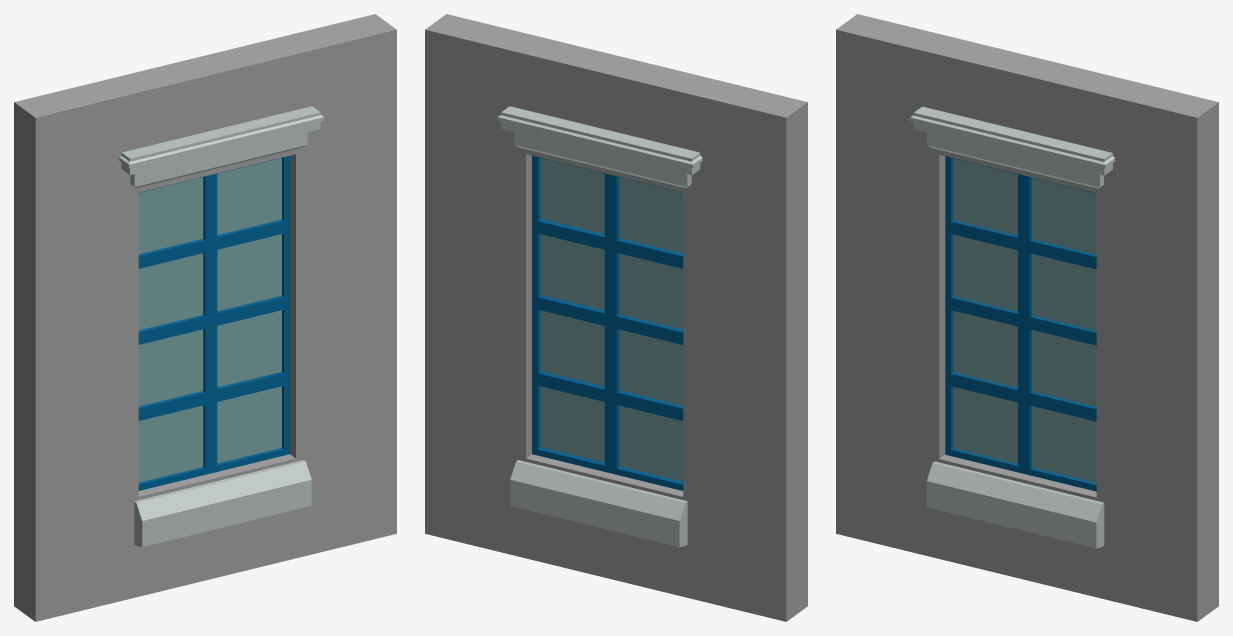
Rendered from NY_Street_Window_3M_02.fbx.
3 views of the same model, side by side, from view 1: azimuth 30°, elevation 25°; view 2: azimuth 150°, elevation 25°; view 3: azimuth 330°, elevation 25° (orthographic).
Visible parts, largest first — view 1: NY_Street_Window_3M_02; view 2: NY_Street_Window_3M_02; view 3: NY_Street_Window_3M_02.
Boxes of the visible parts, <box> form: NY_Street_Window_3M_02: <box>14,14,396,621</box>; NY_Street_Window_3M_02: <box>425,14,807,621</box>; NY_Street_Window_3M_02: <box>836,14,1218,621</box>.
Bounding box in the file's own units: 300 × 400 × 59.09.
